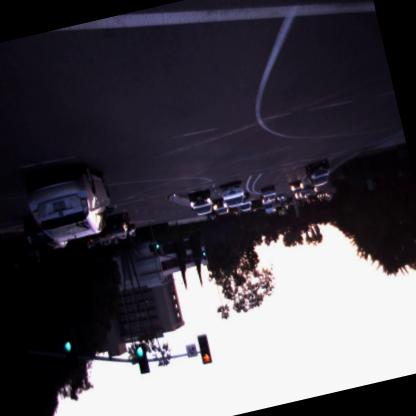trafficlight: (193, 332, 216, 366), (60, 340, 80, 376), (132, 342, 152, 377), (154, 242, 163, 256), (200, 248, 208, 262)
